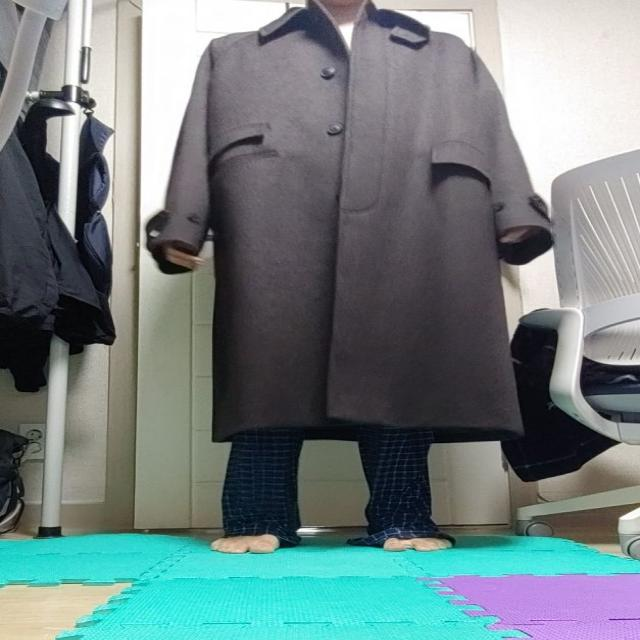coat: (140, 0, 558, 447)
